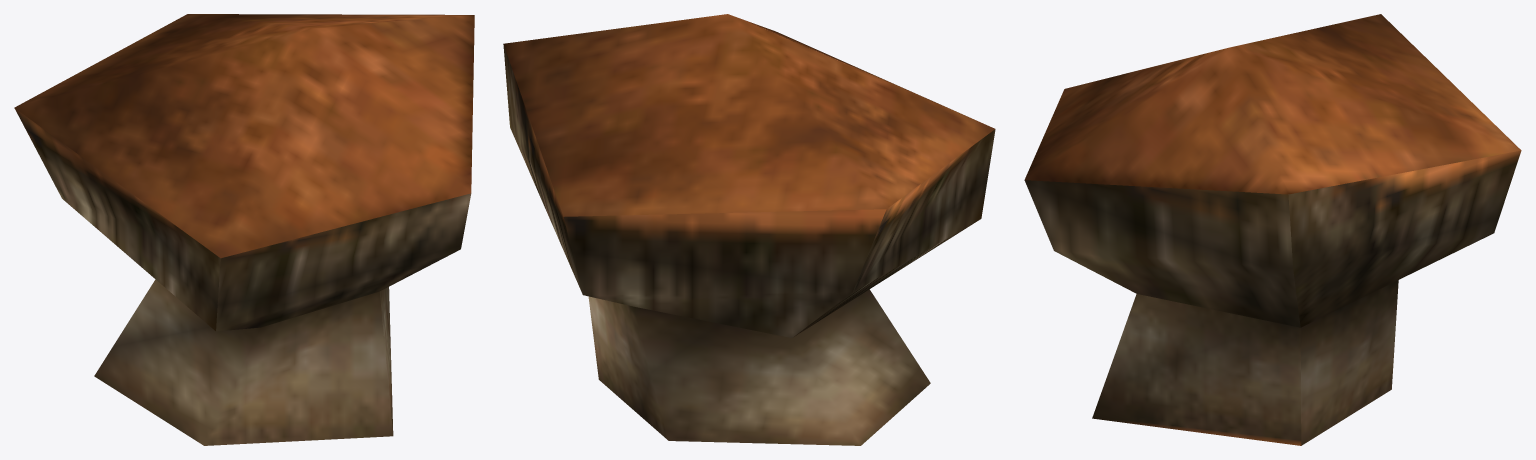
Rendered from nafltr78.dae.
3 views of the same model, side by side, from view 1: azimuth 30°, elevation 25°; view 2: azimuth 150°, elevation 25°; view 3: azimuth 270°, elevation 25° (orthographic). The views are drawn at different scales.
Parts seen in each view (by area): view 1: mush20; view 2: mush20; view 3: mush20.
Boxes of the visible parts, x1,y1,x2,y2 form: mush20: (14,14,474,445); mush20: (503,14,995,445); mush20: (1024,14,1521,445).
Size of the model in its own units: 0.4393 by 0.4483 by 0.3646.
1 material, 1 textured.
